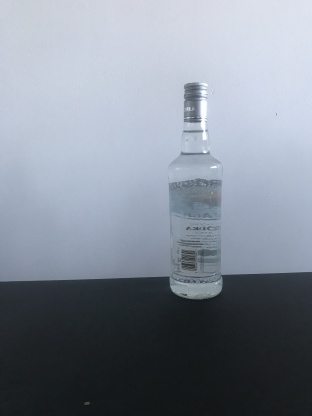nakretka: (182, 79, 209, 125)
